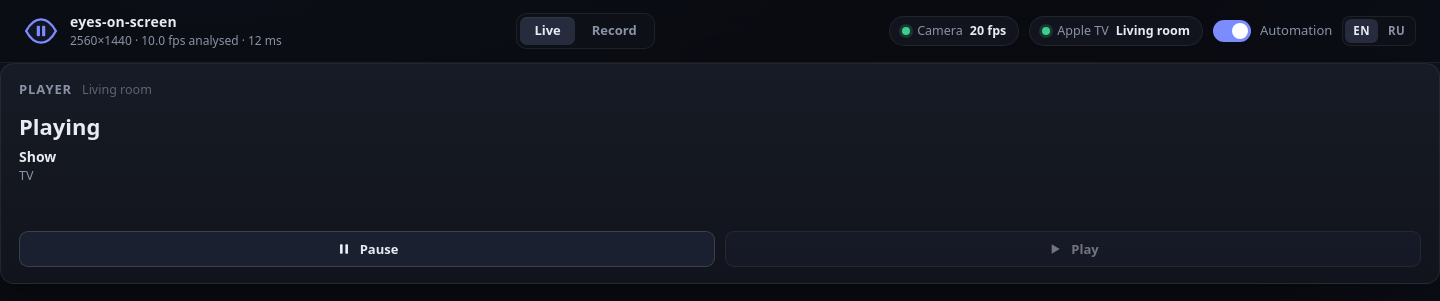
Test case: Language › switches the whole page to Russian
Expected: the button "Pause" is shown, [19, 231, 715, 267]
Click the radio button labelled "RU": (1396, 31) [1380, 19, 1413, 43]
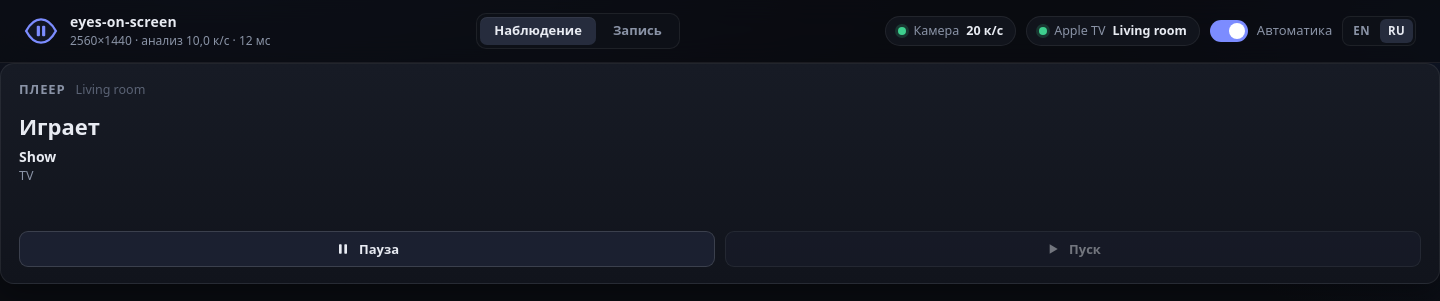
Expected: the button "Пауза" is shown, [19, 231, 715, 267]
Expected: the text "Автоматика" is shown, [1257, 21, 1332, 40]
